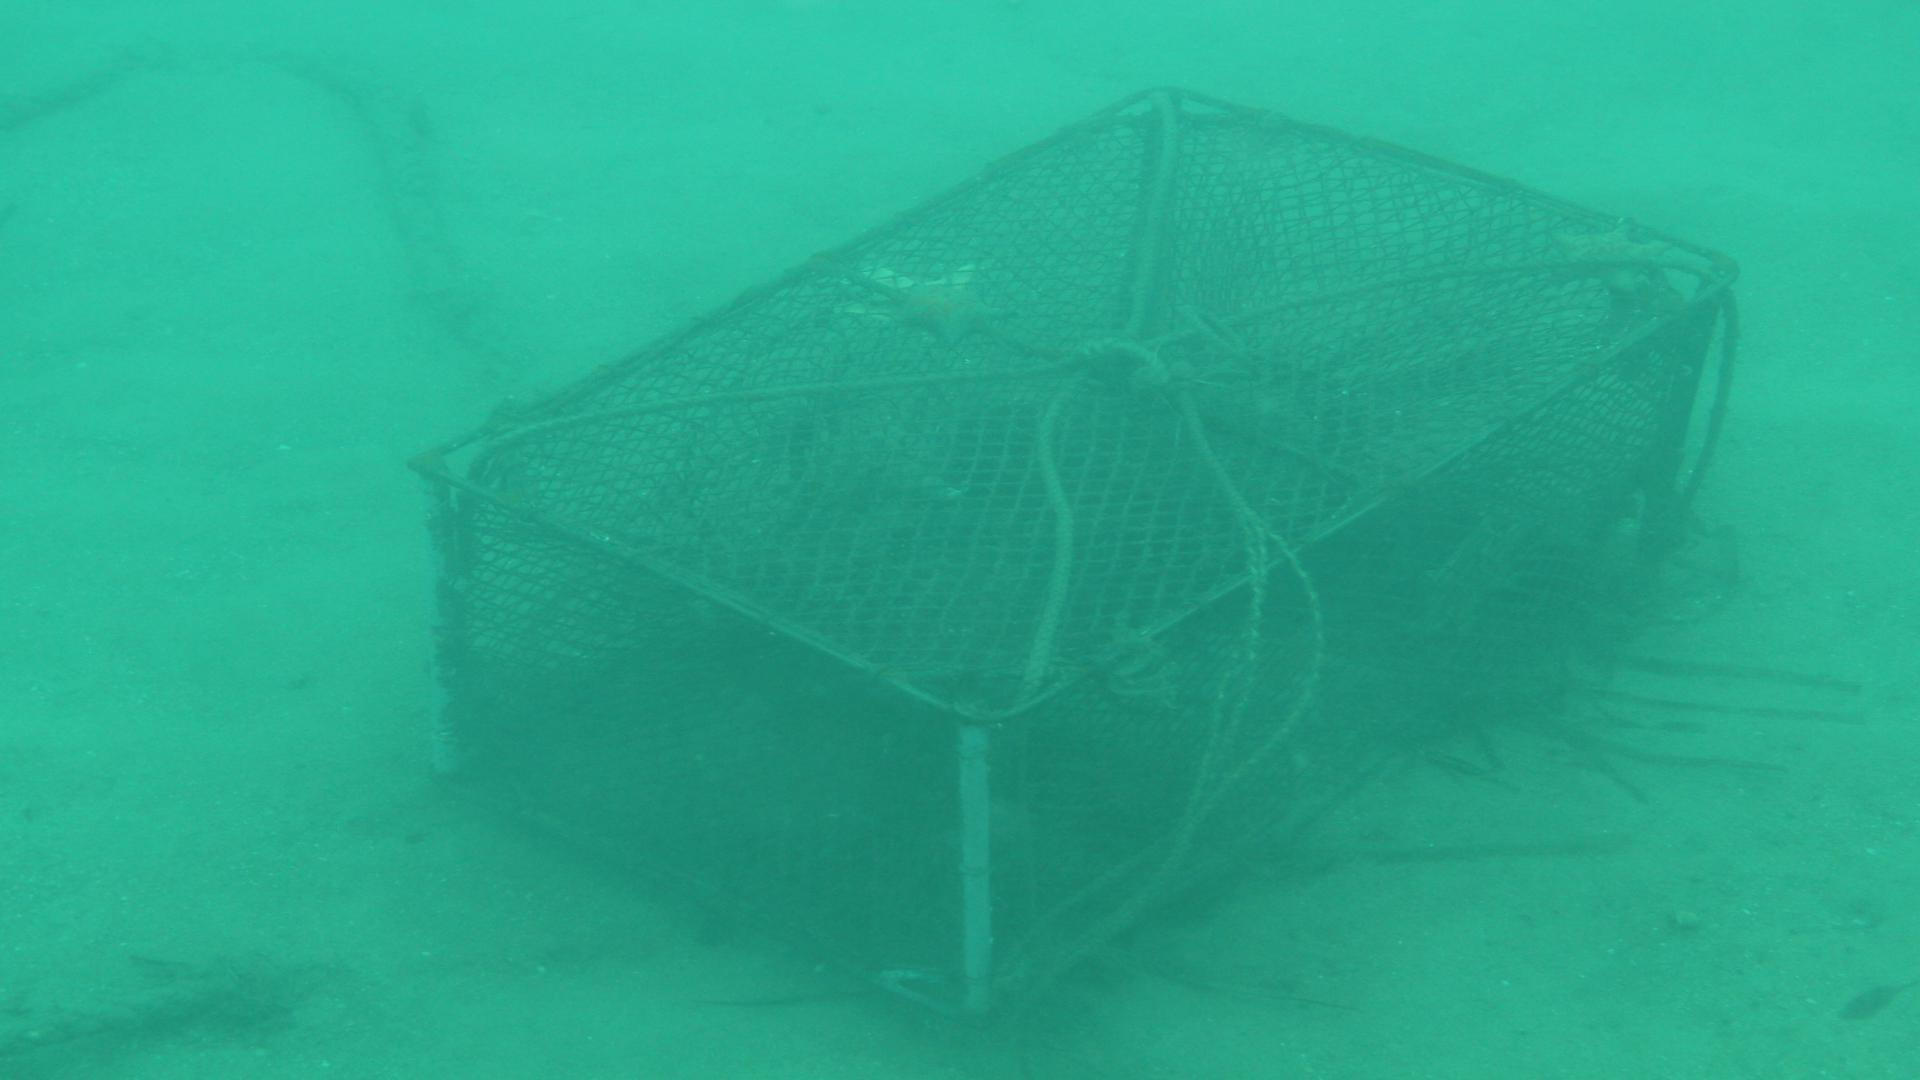rectangular fish trap: (405, 80, 1737, 1023)
